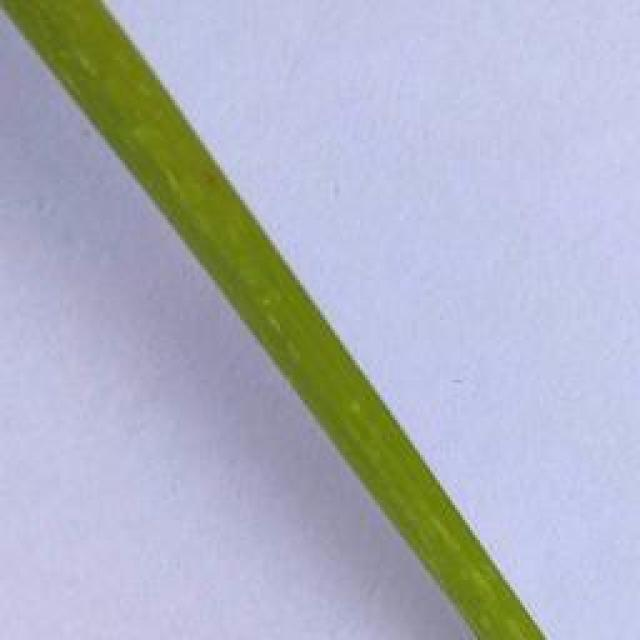Healthy-Plant: (4, 0, 553, 640)
